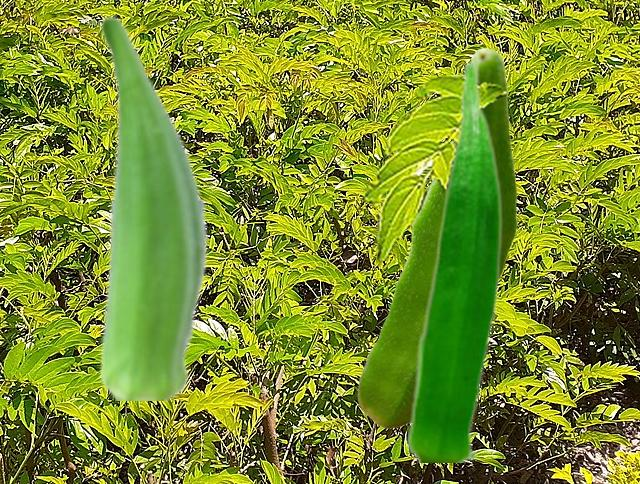okra: (357, 47, 516, 427), (98, 14, 208, 399), (406, 57, 503, 461)
